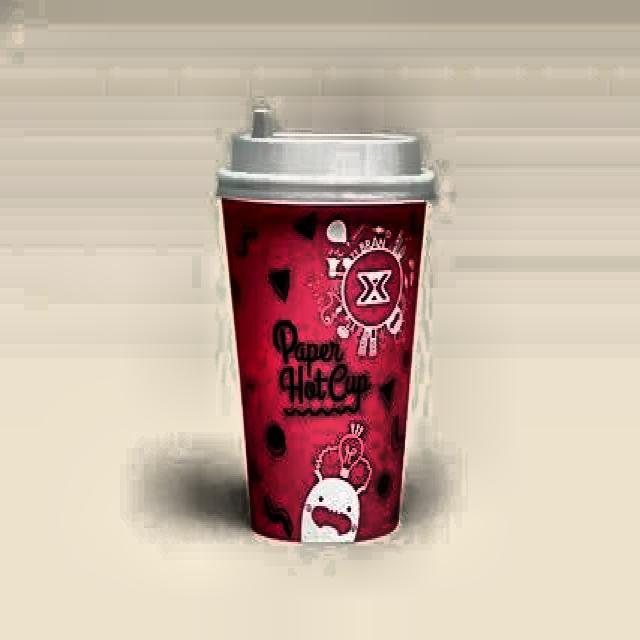Cup: (208, 126, 438, 564)
